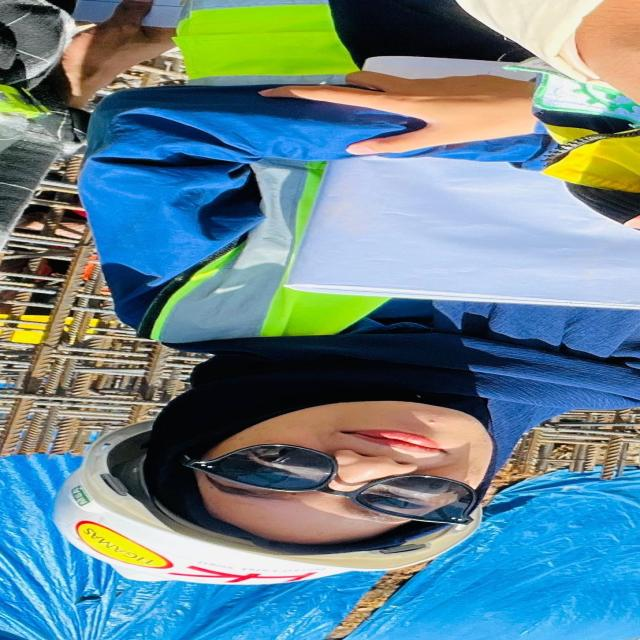safetyhelmet: (29, 374, 554, 598)
